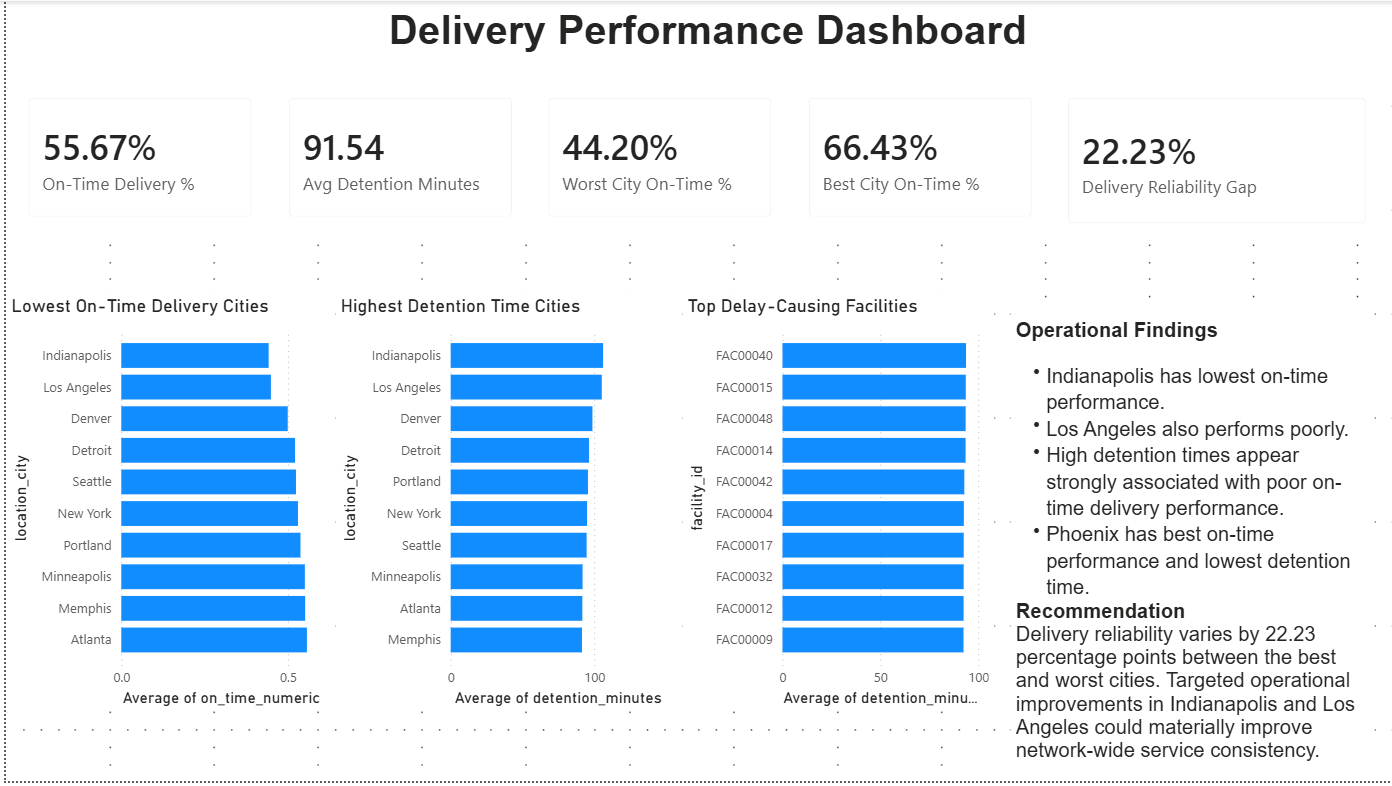

The page's visual inventory and layout, read from the dashboard file:
{"tool":"powerbi","page":{"name":"Delivery Performance ","canvas":[1280,720],"ordinal":2},"visuals":[{"type":"textbox","box":[16,0,1264,80],"z":0},{"type":"cardVisual","fields":{"Data":["delivery_events6.On Time %"]},"box":[3.9,72.3,240,144],"z":1},{"type":"cardVisual","fields":{"Data":["delivery_events6.Avg Detention"]},"box":[243.9,72.3,240,144],"z":2},{"type":"cardVisual","fields":{"Data":["delivery_events6.Min On Time %"]},"box":[483.9,72.3,240,144],"z":3},{"type":"cardVisual","fields":{"Data":["delivery_events6.Max On Time %"]},"box":[723.9,72.3,240,144],"z":4},{"type":"barChart","title":"Lowest On-Time Delivery Cities","fields":{"Category":["delivery_events6.location_city"],"Y":["Avg(delivery_events6.on_time_numeric)"]},"box":[0,272,304,384],"z":5},{"type":"barChart","title":"Highest Detention Time Cities","fields":{"Category":["delivery_events6.location_city"],"Y":["Avg(delivery_events6.detention_minutes)"]},"box":[304,272,320,384],"z":6},{"type":"barChart","title":"Top Delay-Causing Facilities","fields":{"Category":["delivery_events6.facility_id"],"Y":["Avg(delivery_events6.detention_minutes)"]},"box":[624,272,288,384],"z":7},{"type":"textbox","box":[928,288,336,432],"z":8},{"type":"cardVisual","fields":{"Data":["delivery_events6.Delivery Reliability Gap"]},"box":[964.1,71.9,309,150],"z":9}]}

Visuals, with their boxes in screenshot pixels (x1, y1, x2, y2), scaled from the page's 1280x720 canvas onto the 1392x786 screenshot:
textbox: left=17, top=0, right=1391, bottom=87
cardVisual - delivery_events6.On Time %: left=4, top=79, right=265, bottom=236
cardVisual - delivery_events6.Avg Detention: left=265, top=79, right=526, bottom=236
cardVisual - delivery_events6.Min On Time %: left=526, top=79, right=787, bottom=236
cardVisual - delivery_events6.Max On Time %: left=787, top=79, right=1048, bottom=236
"Lowest On-Time Delivery Cities" barChart: left=0, top=297, right=331, bottom=716
"Highest Detention Time Cities" barChart: left=331, top=297, right=679, bottom=716
"Top Delay-Causing Facilities" barChart: left=679, top=297, right=992, bottom=716
textbox: left=1009, top=314, right=1375, bottom=785
cardVisual - delivery_events6.Delivery Reliability Gap: left=1048, top=78, right=1384, bottom=242
